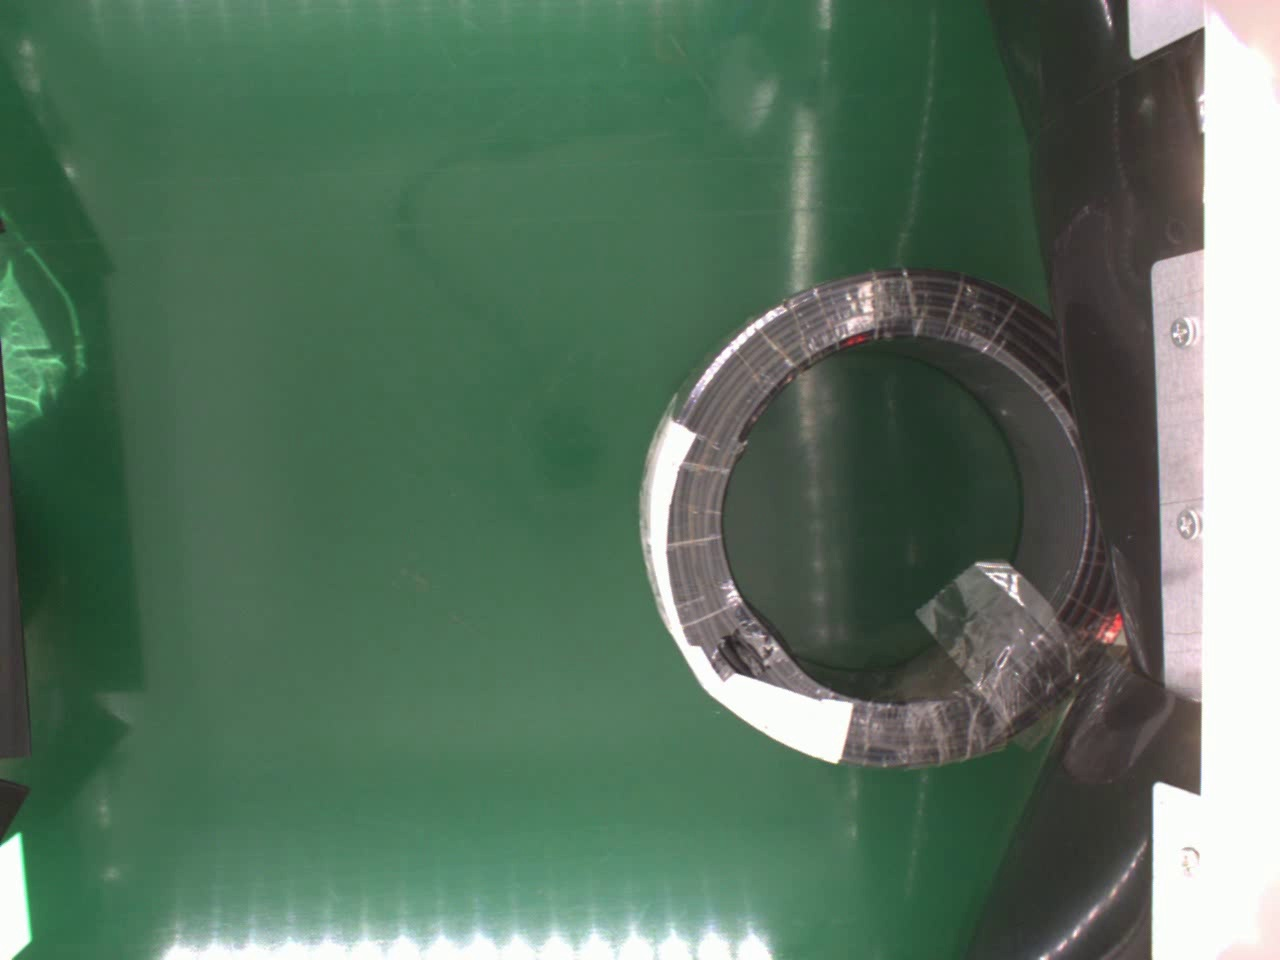black: (635, 265, 1126, 771)
